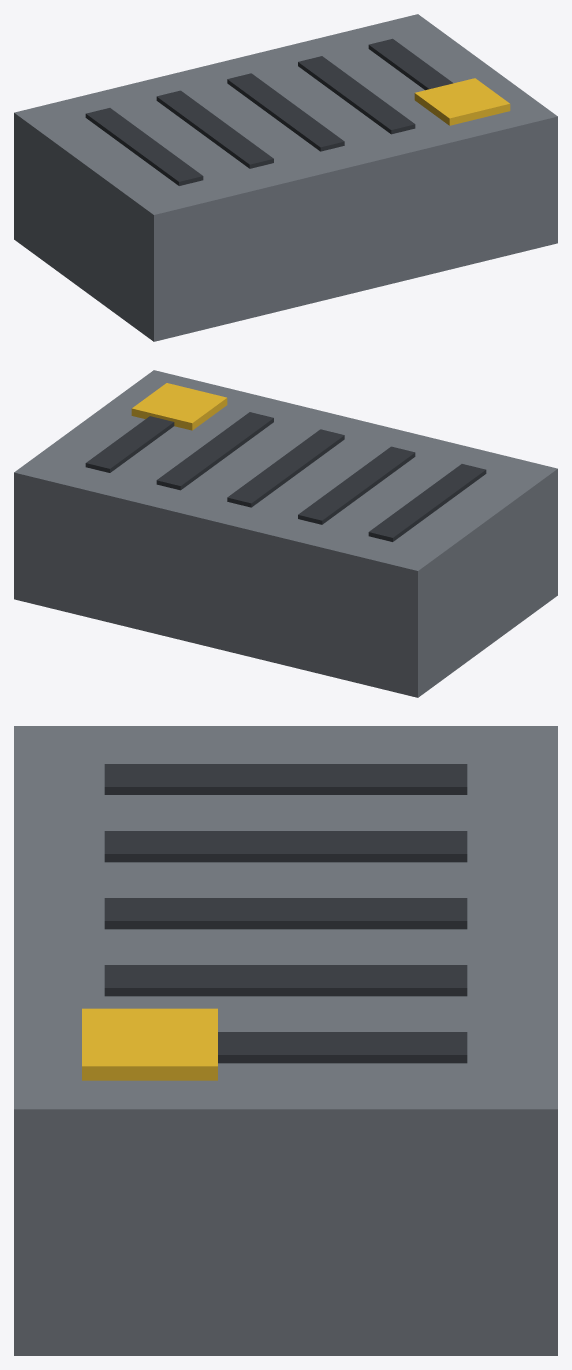
File: screw_mold.glb
3 views of the same model, one above another, from view 1: azimuth 30°, elevation 25°; view 2: azimuth 150°, elevation 25°; view 3: azimuth 270°, elevation 25° (orthographic). The views are drawn at different scales.
Parts seen in each view (by area): view 1: block_mold_steel, grooves_mold_groove, drip_gold; view 2: block_mold_steel, grooves_mold_groove, drip_gold; view 3: block_mold_steel, grooves_mold_groove, drip_gold.
Boxes of the visible parts, x1,y1,x2,y2 form: block_mold_steel: (14, 14, 557, 341); grooves_mold_groove: (85, 38, 453, 185); drip_gold: (414, 78, 510, 125); block_mold_steel: (14, 370, 557, 697); grooves_mold_groove: (85, 412, 486, 541); drip_gold: (131, 383, 227, 430); block_mold_steel: (14, 726, 557, 1355); grooves_mold_groove: (104, 764, 467, 1063); drip_gold: (82, 1008, 217, 1080).
Bounding box in the file's own units: 0.2 × 0.0635 × 0.12.
